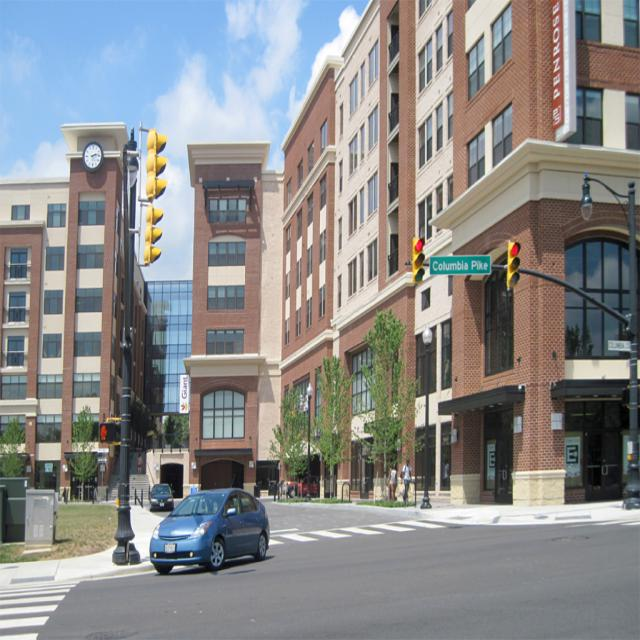car: (146, 481, 270, 573), (146, 481, 172, 509)
